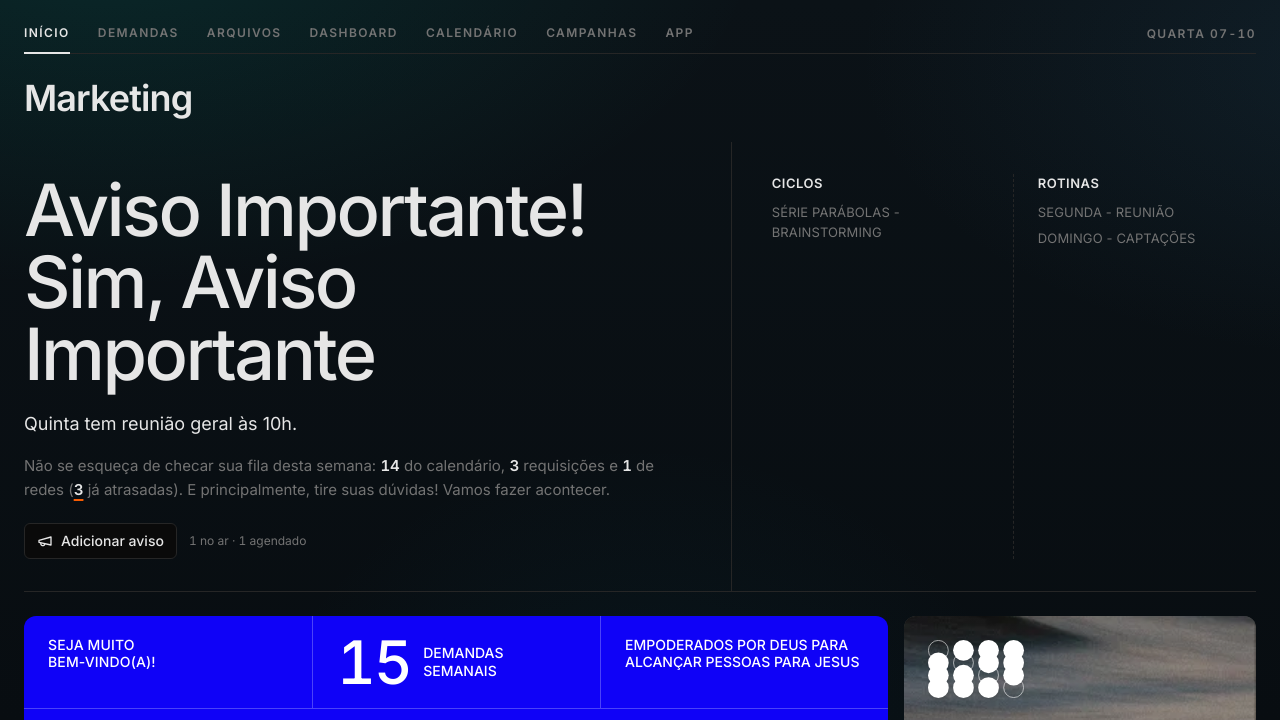
Início · avisos com período do líder (02/10) › o erro do servidor aparece no diálogo, com o motivo dele
The image size is (1280, 720).
Click the button "Adicionar aviso": (100, 541) [24,523,177,559]
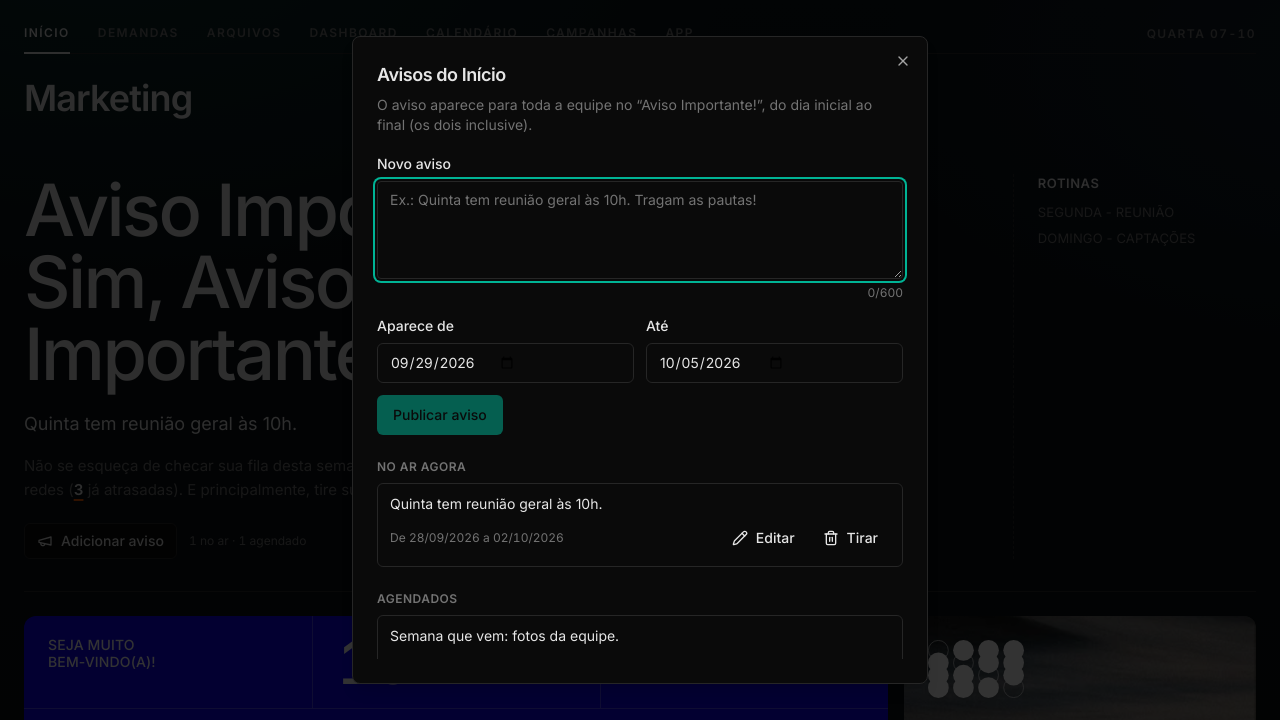
In the text box labelled "Novo aviso": (640, 230) [377,181,903,279], type "Teste"
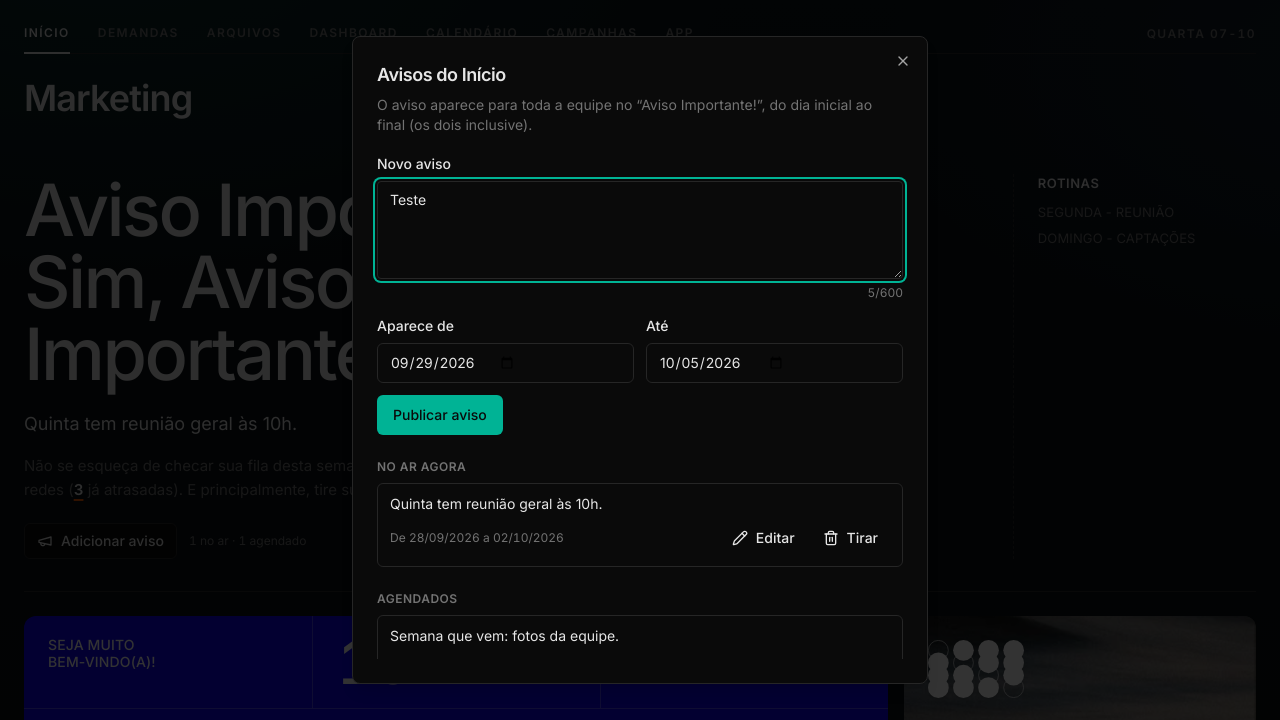
Click the button "Publicar aviso": (440, 415) [377,395,503,435]
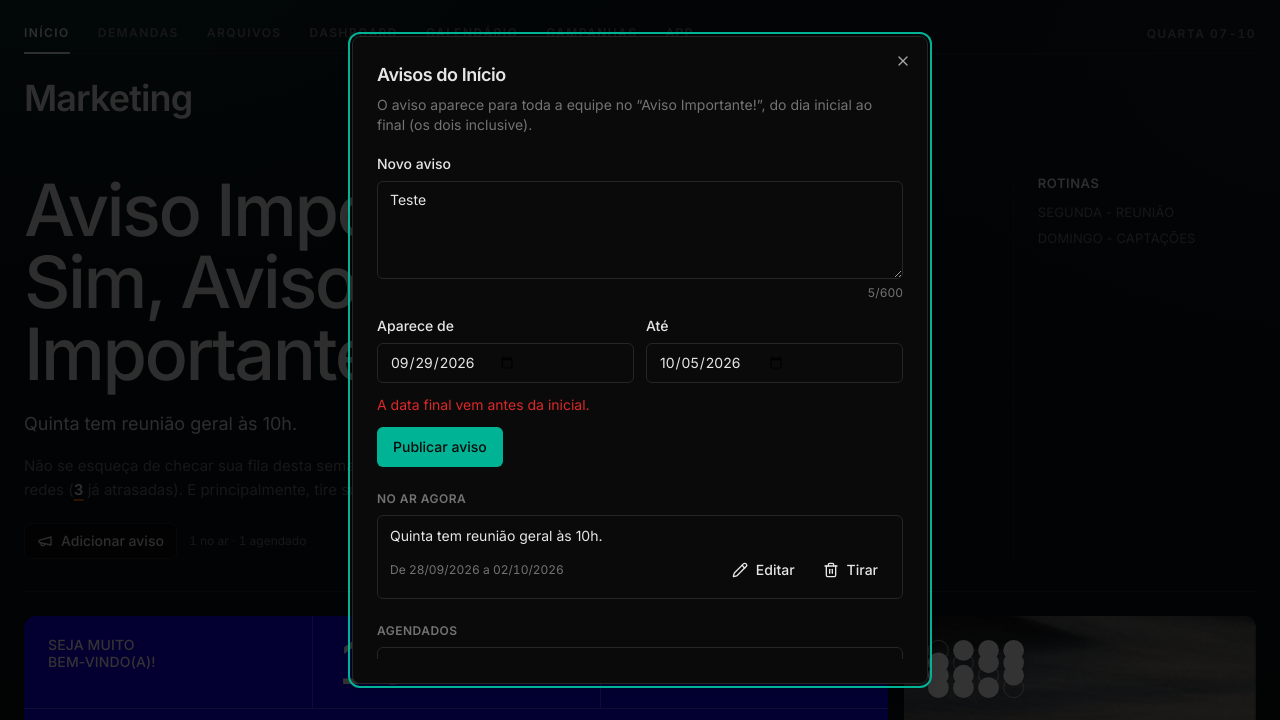
Now the message reads "A data final vem antes da inicial.", box [377,396,590,413]
